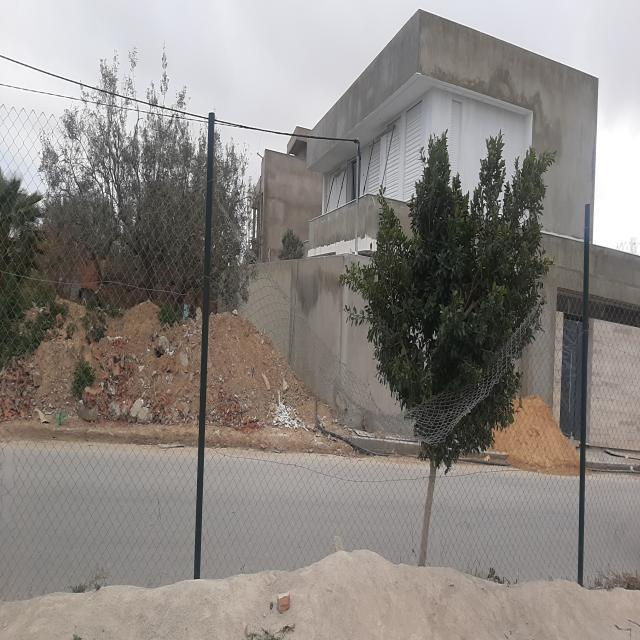fence line: (285, 275, 530, 436)
